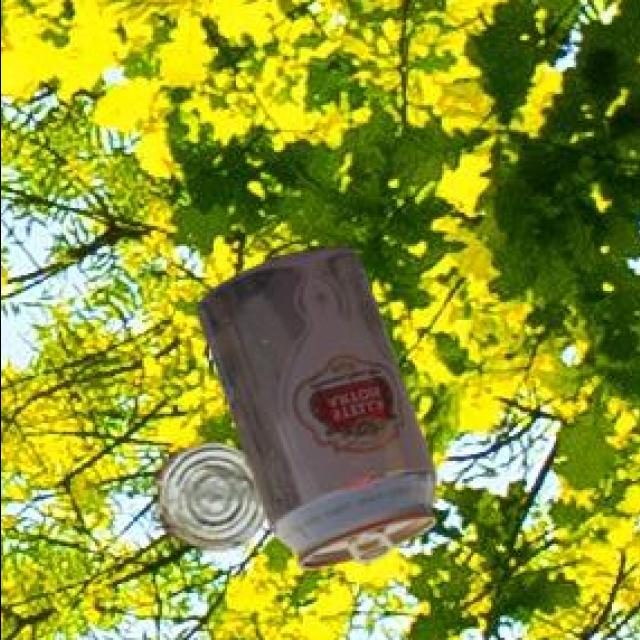logam: (200, 252, 437, 574), (158, 446, 267, 552)
